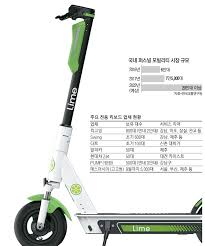kick_body: (78, 212, 197, 233)
kick_handler: (55, 5, 95, 24)
kick_wheel: (14, 196, 67, 246)
